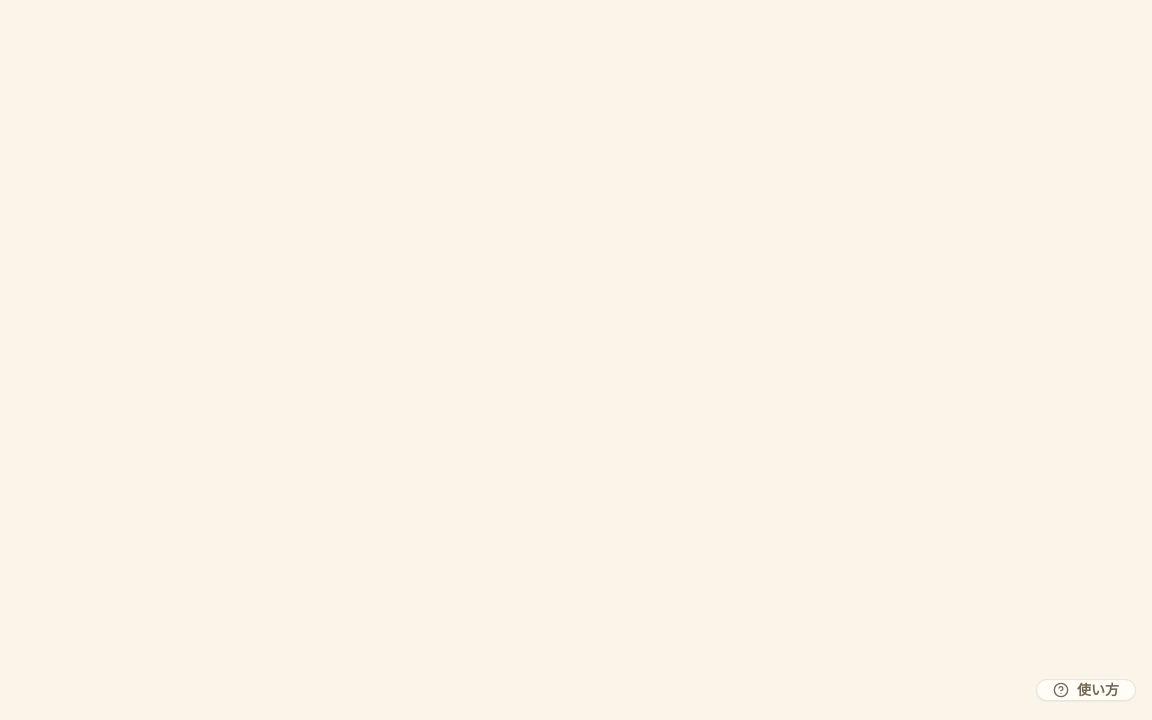
Test: MapPageClient › opens the map help from 「使い方」, and the first-time guide only from inside the help
Later steps or results of the test are not shown.
Click the button with aria-label "使い方を確認".
click(1086, 690)  # box [1036, 679, 1136, 701]
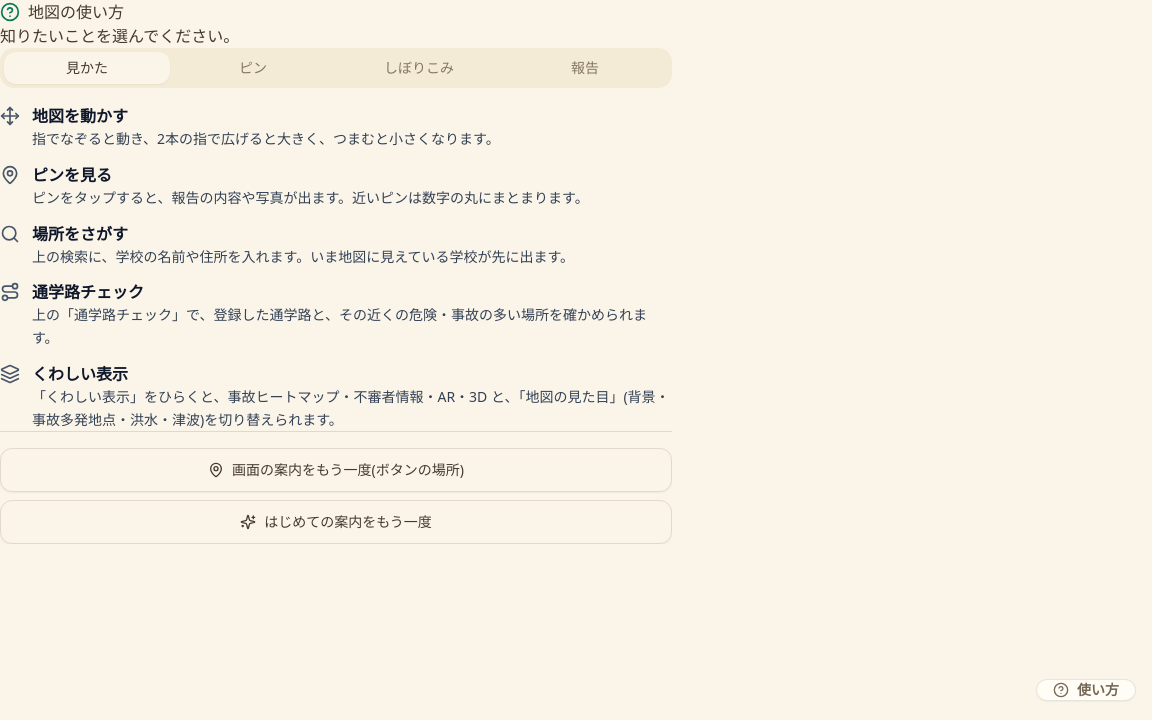
Now the heading "地図の使い方" is shown, box [0, 1, 124, 23]
